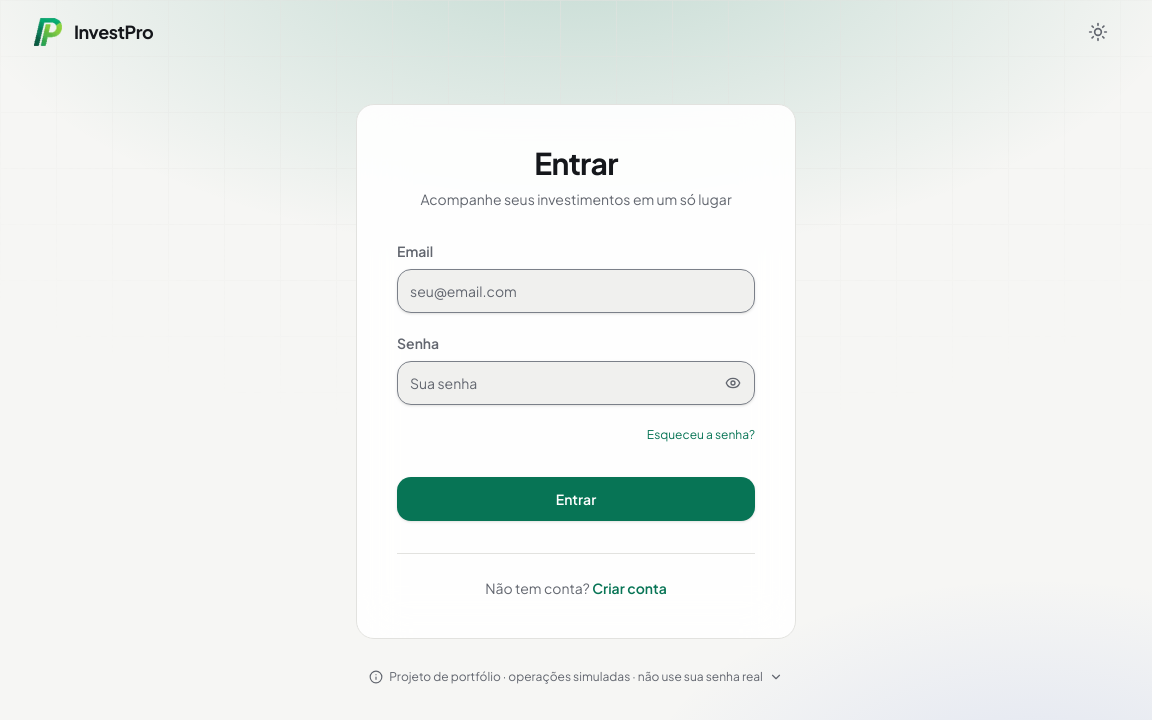
Test: 429 nas telas de autenticação (RATE_LIMIT_EXCEEDED: 429 por IP) › login: mostra a mensagem amigável (na tela e no toast) e nunca o texto do servidor
Step 1. Type "ana@example.com" into the field labelled "Email" → coordinates (576, 291), box [397,269,755,313]
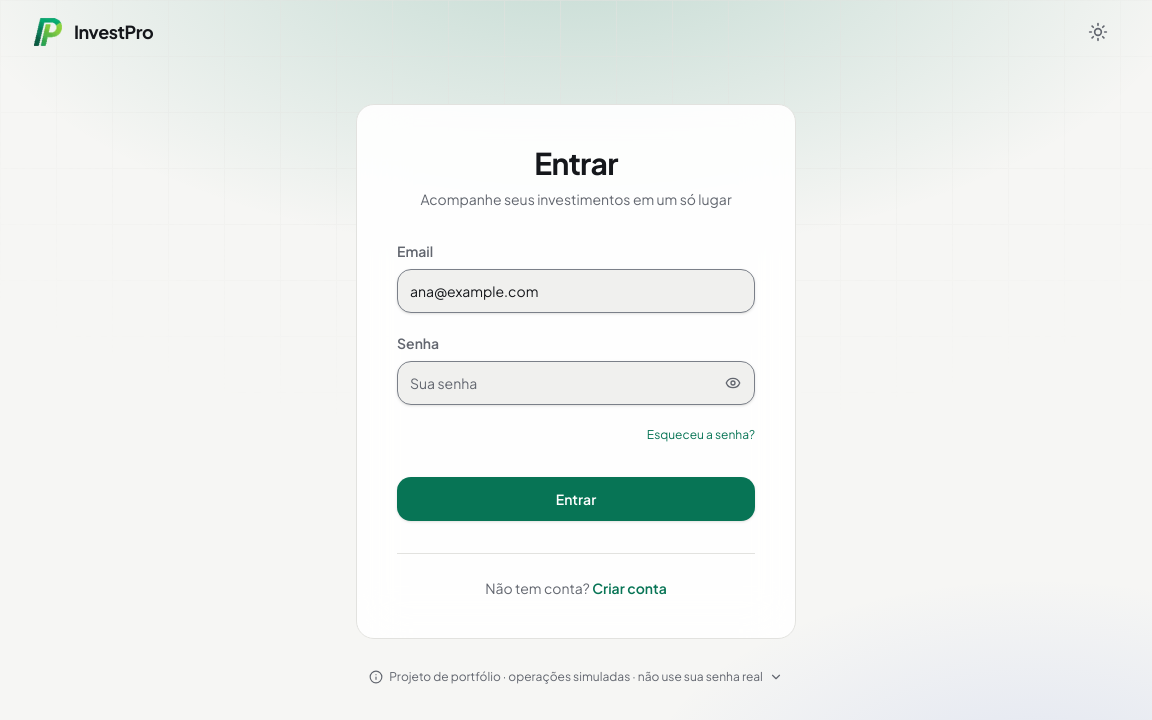
Step 2. Type "Senha#1234" into the password field labelled "Senha" → coordinates (576, 383), box [397,361,755,405]
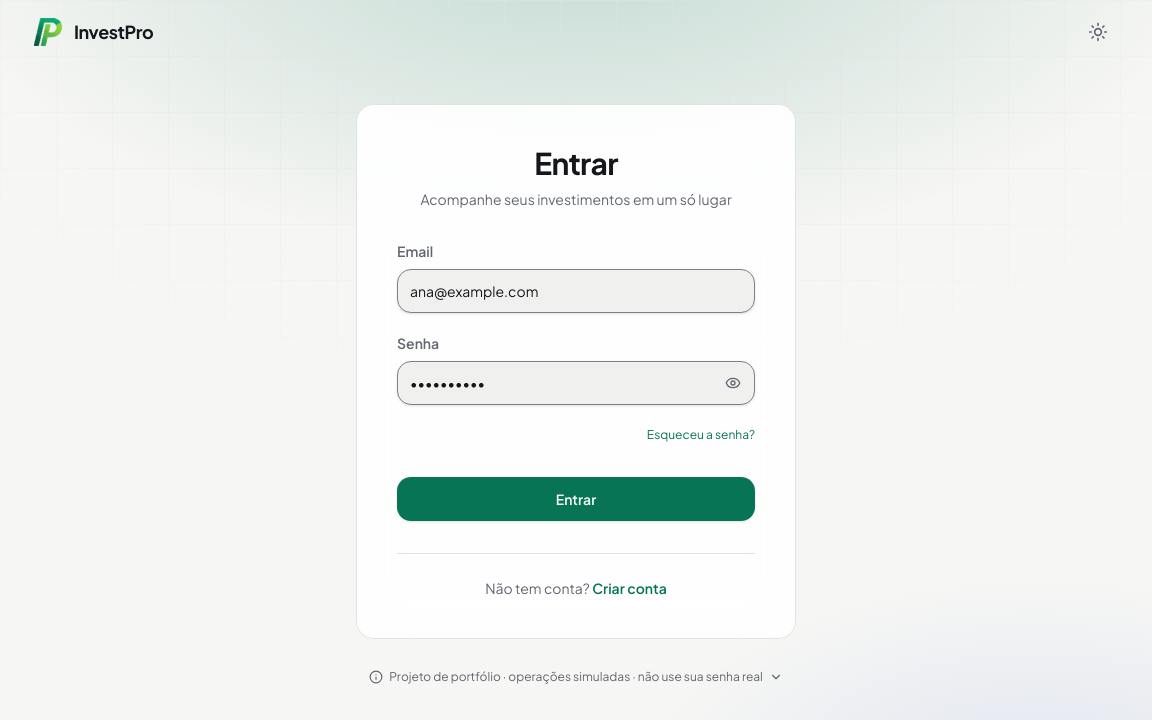
Step 3. Click the button "Entrar" → coordinates (576, 499), box [397,477,755,521]
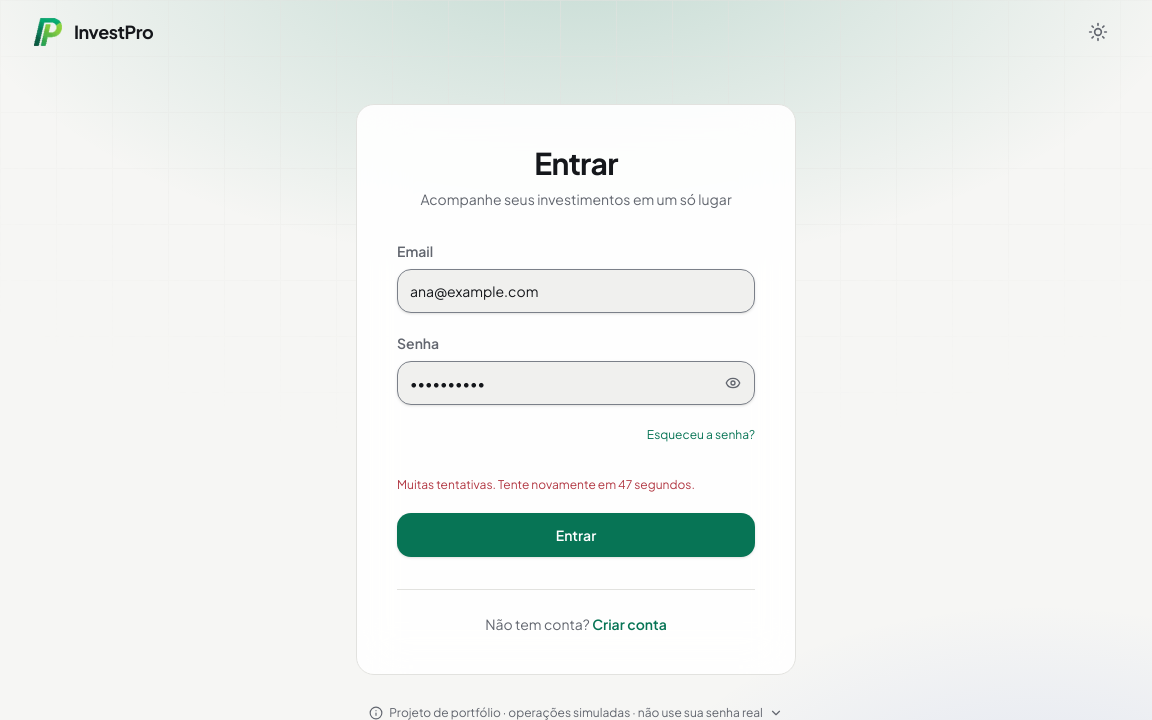
Result: the text "Muitas tentativas. Tente novamente em 47 segundos." is shown at [397,477,695,492]
